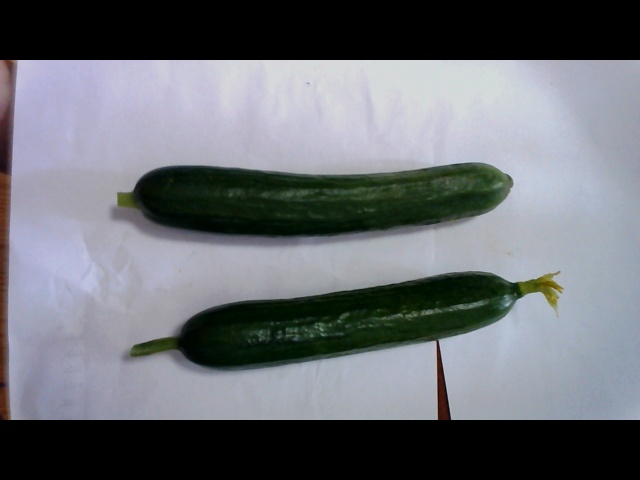cucumber: (117, 272, 566, 357), (137, 151, 516, 245)
